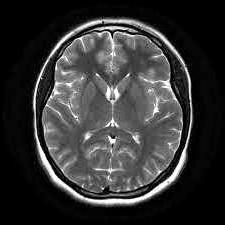Normal_Brain: (22, 1, 225, 219)
